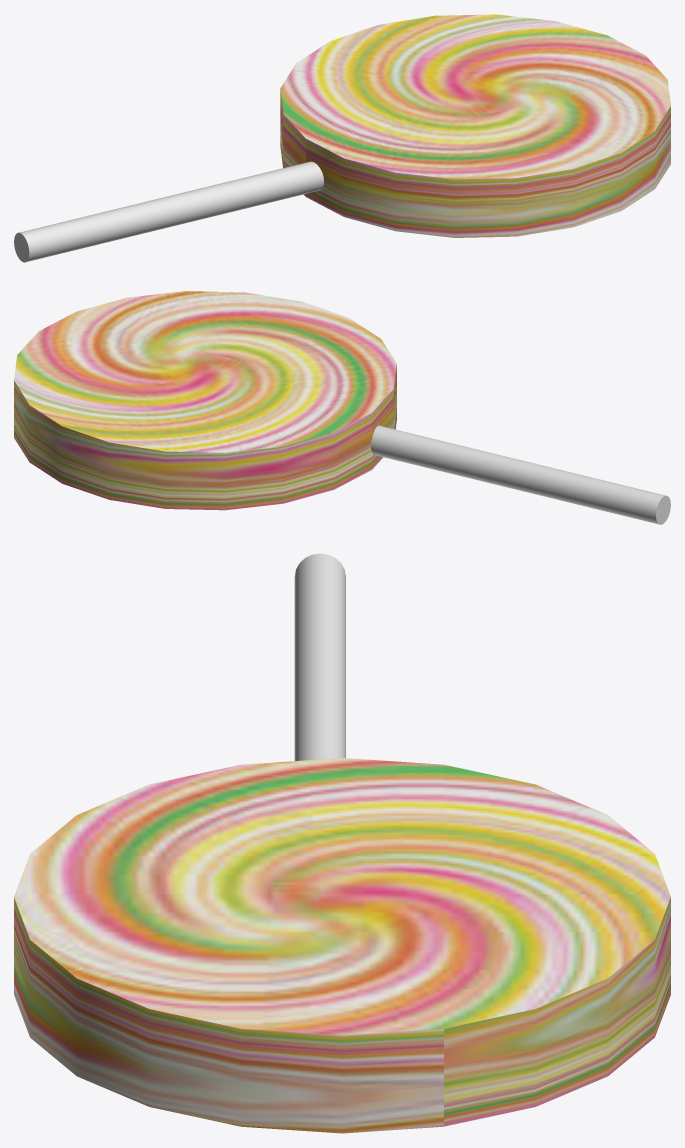
File: candy.fbx
The picture shows the model from 3 angles, top to bottom: view 1: azimuth 30°, elevation 25°; view 2: azimuth 150°, elevation 25°; view 3: azimuth 270°, elevation 25°; orthographic projection. The views are drawn at different scales.
Visible parts, largest first — view 1: pCylinder6; view 2: pCylinder6; view 3: pCylinder6.
Boxes of the visible parts, bbox=[...] form: pCylinder6: bbox=[14, 14, 670, 262]; pCylinder6: bbox=[14, 291, 670, 524]; pCylinder6: bbox=[14, 553, 670, 1133].
Size of the model in its own units: 14.68 by 1.3 by 7.92.
2 materials, 1 textured.
